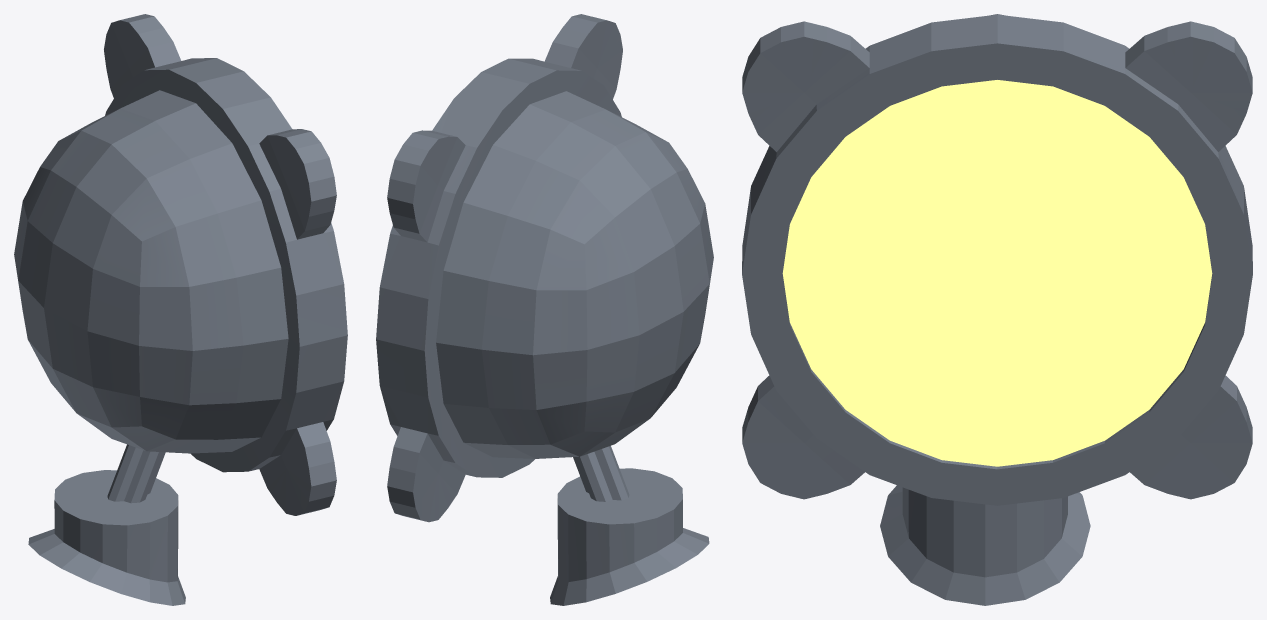
File: light_type87-arv.fbx
3 renders of one model, left to right at view 1: azimuth 30°, elevation 25°; view 2: azimuth 150°, elevation 25°; view 3: azimuth 270°, elevation 25°, orthographic. The views are drawn at different scales.
Parts seen in each view (by area): view 1: light.type87-arv; view 2: light.type87-arv; view 3: light.type87-arv.
Boxes of the visible parts, x1,y1,x2,y2 form: light.type87-arv: [14, 14, 347, 605]; light.type87-arv: [376, 14, 713, 605]; light.type87-arv: [742, 14, 1252, 605].
Bounding box in the file's own units: 0.2786 × 0.6279 × 0.4788.
